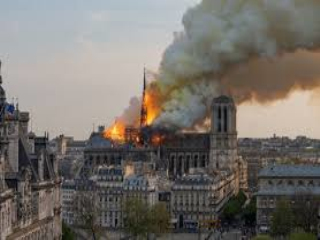smoke: (161, 4, 319, 126), (101, 87, 162, 142)
